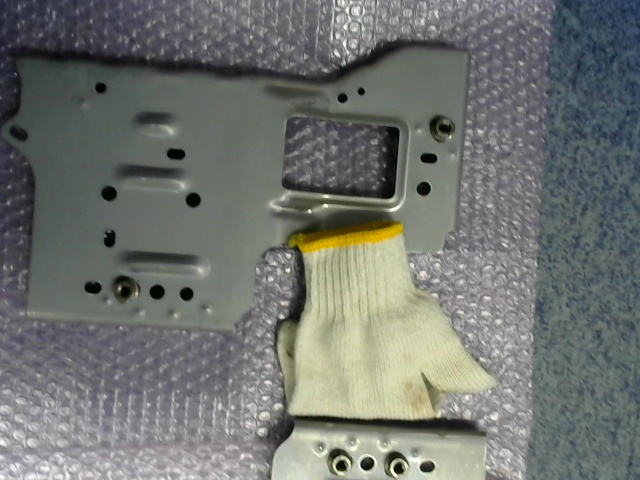dog: (113, 274, 140, 305), (429, 114, 456, 143), (384, 450, 411, 479), (326, 448, 352, 477)
